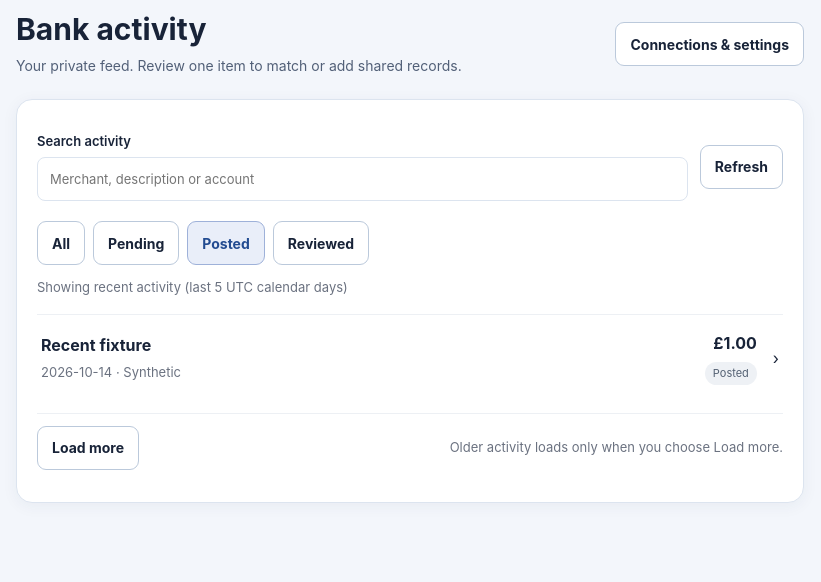
Test case: filter changes reset loaded rows and the request cursor
Step 1. Click the button "Load more" → (88, 448), box [37, 426, 139, 470]
Wait 250 ms
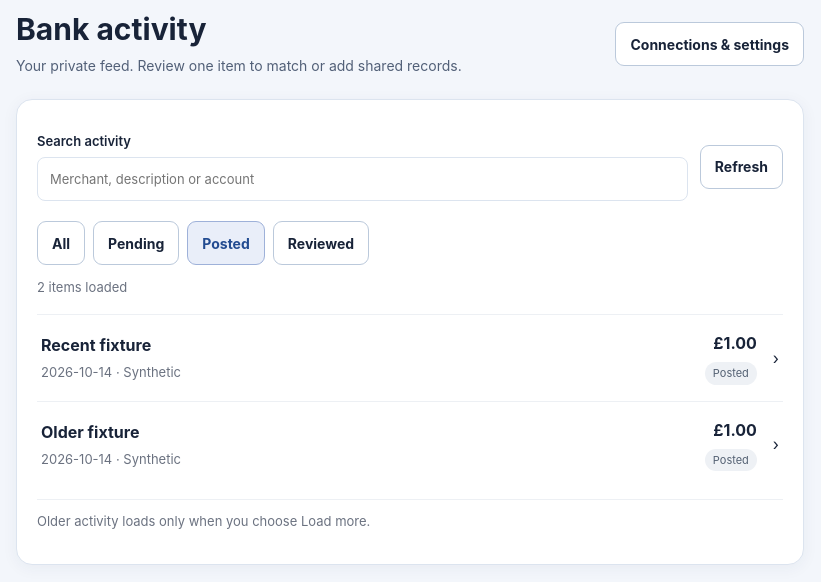
Step 2. Click the button "Pending" → (136, 243), box [93, 221, 179, 265]
Wait 250 ms
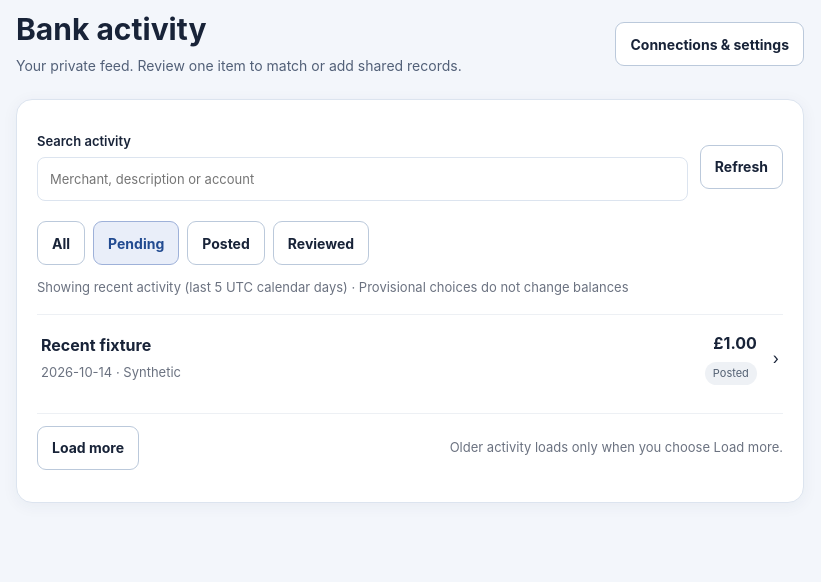
Expected: the link "Older fixture" is gone
